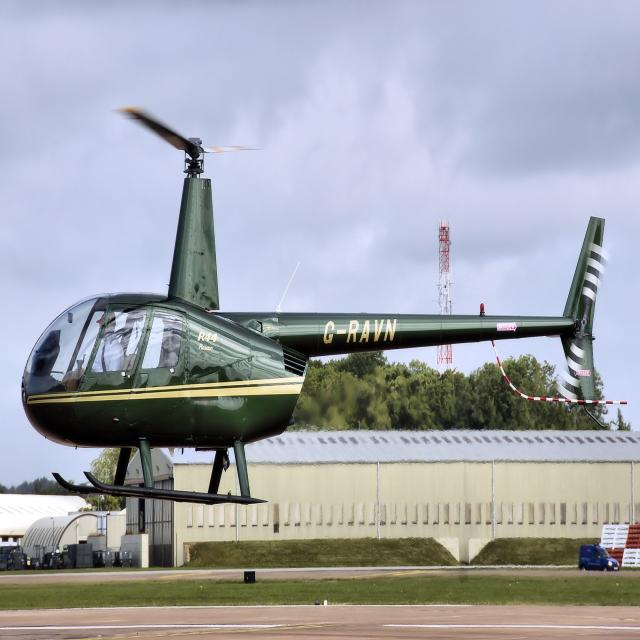CIV_HELO: (19, 130, 608, 512)
